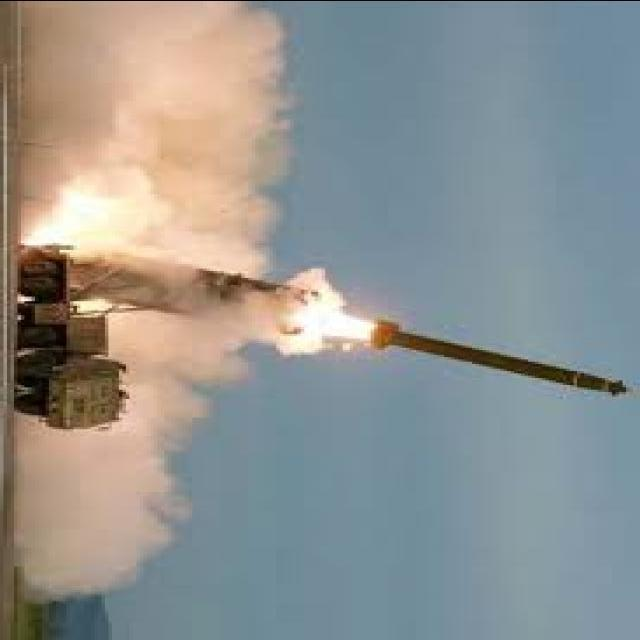missile: (370, 315, 632, 400)
